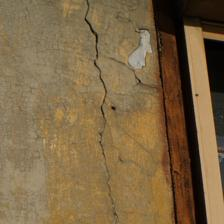Crack: (22, 26, 100, 136), (25, 9, 68, 63), (11, 195, 43, 224)
